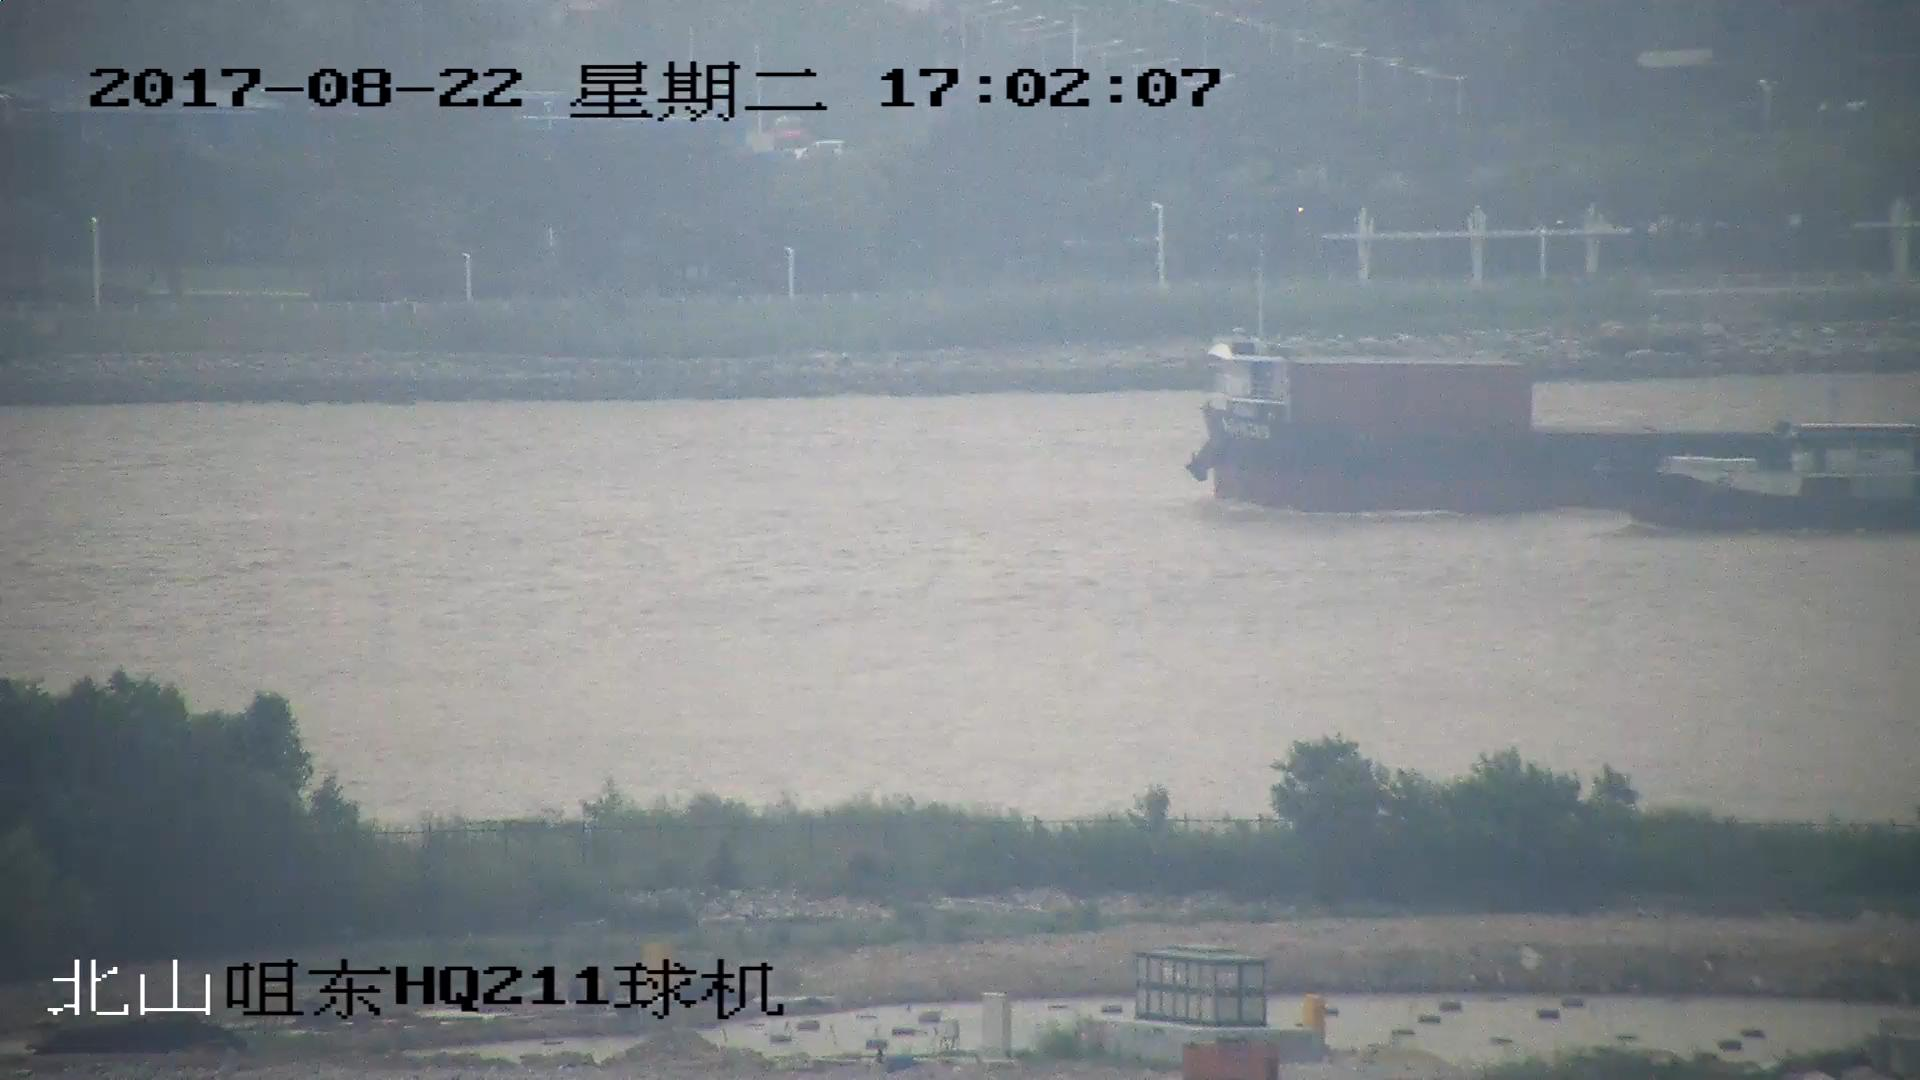fishing boat: (1625, 446, 1920, 526)
general cargo ship: (1185, 331, 1920, 509)
